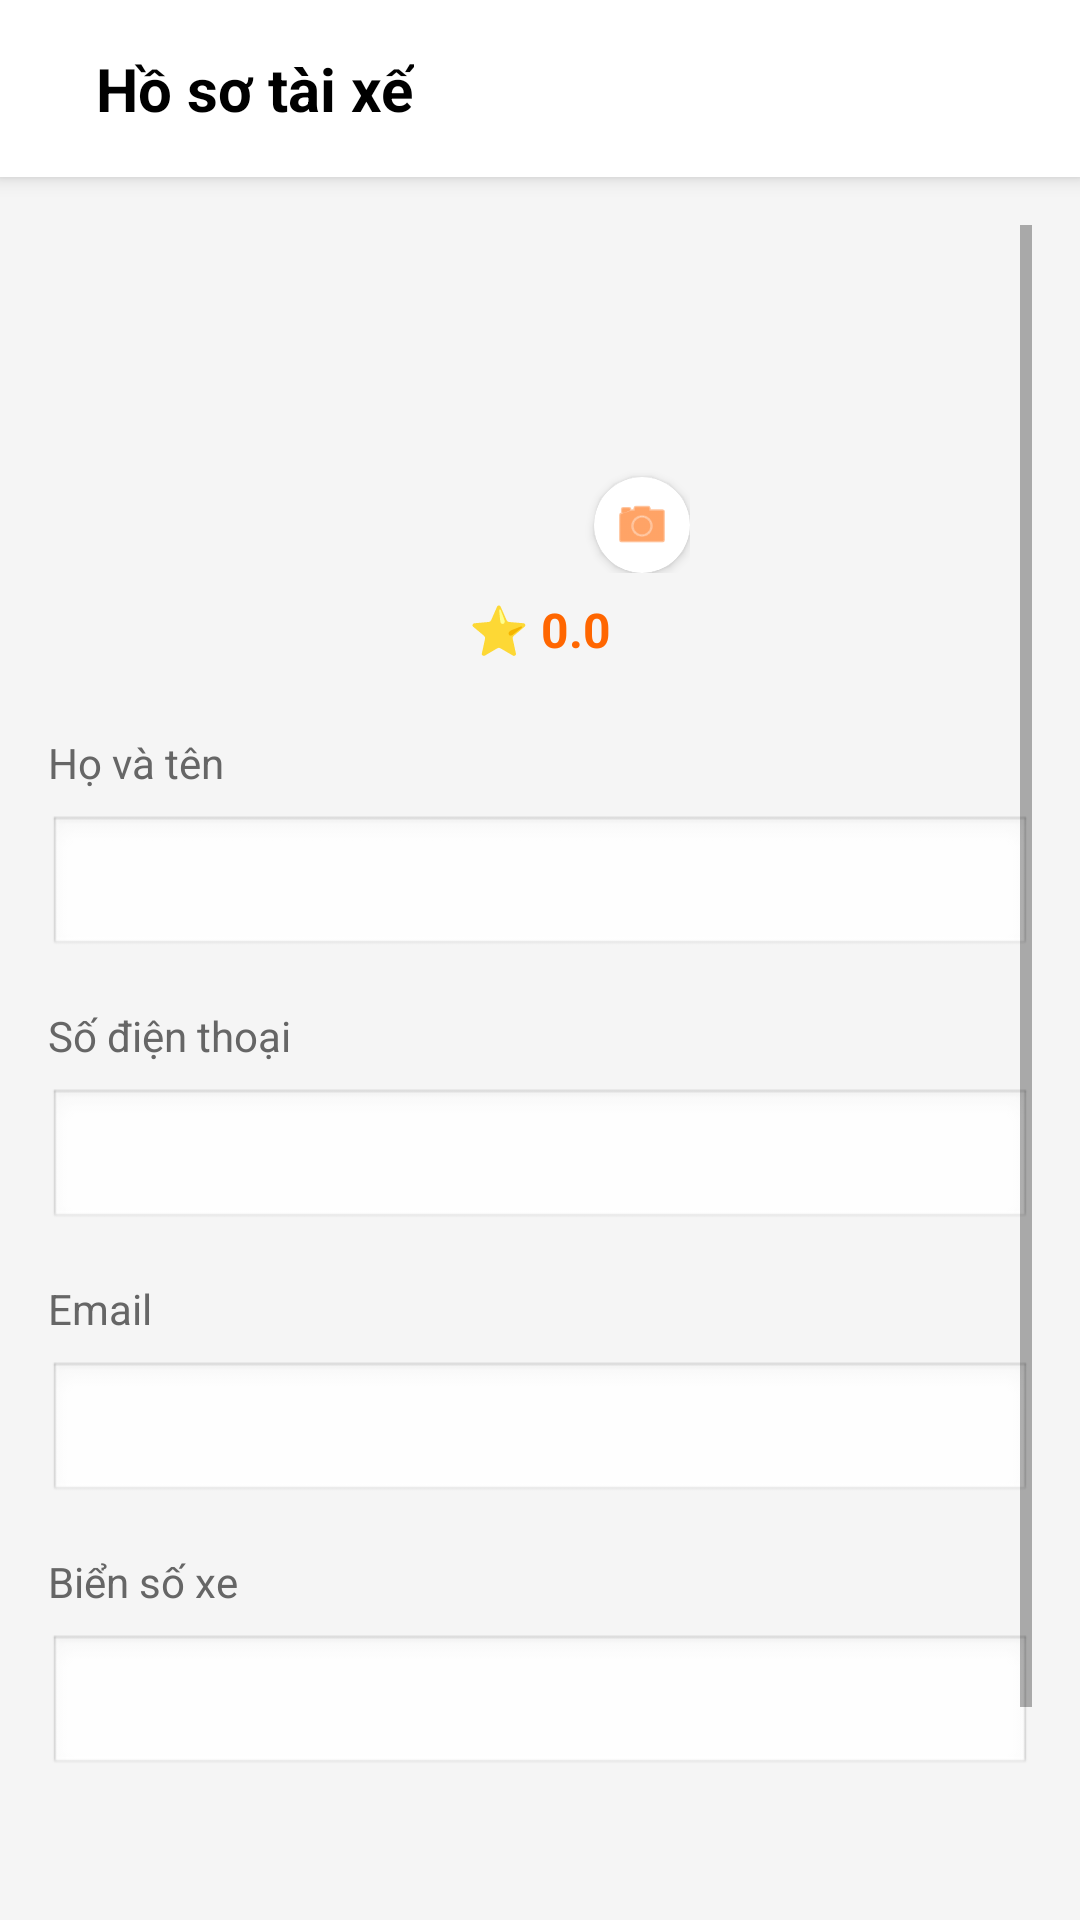

Named icons in this screenshot (1080w x 1920h) and their bounding boxes, (x1, y1, x2, y2):
camera: (594, 477, 690, 573)
